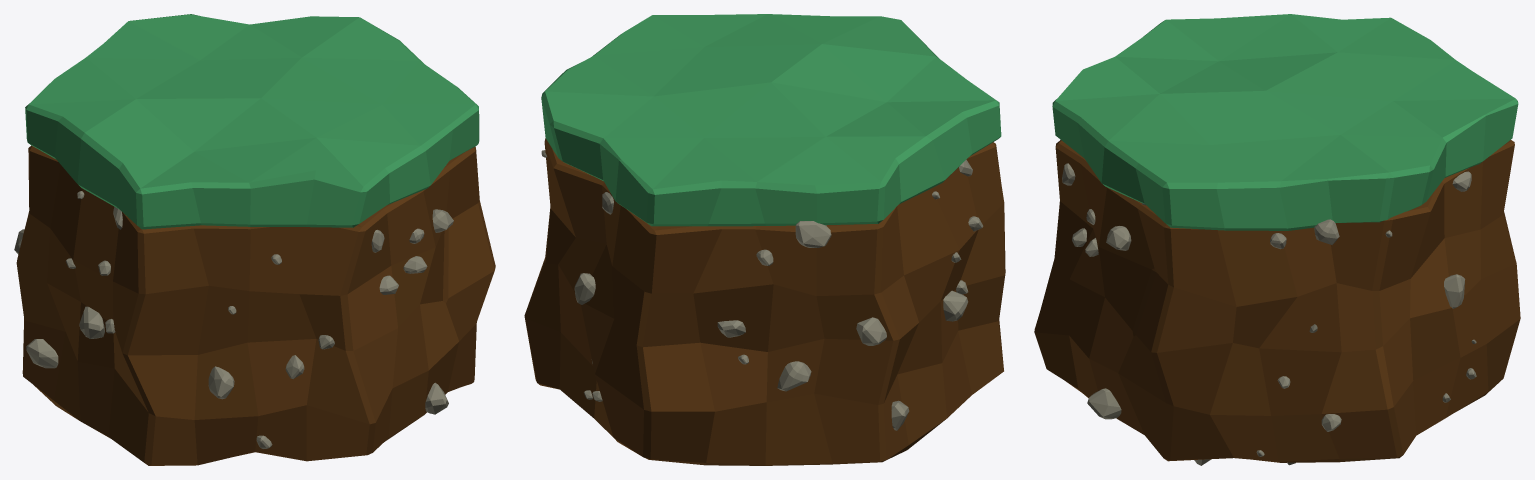
The model's file is grass tile.fbx.
The picture shows the model from 3 angles, left to right: view 1: azimuth 30°, elevation 25°; view 2: azimuth 150°, elevation 25°; view 3: azimuth 270°, elevation 25°; orthographic projection. The views are drawn at different scales.
Visible parts, largest first — view 1: bottom, top, stone.038, stone.037, stone.011, stone.032; view 2: bottom, top, stone.009, stone.008, stone.042, stone.011, stone.026; view 3: bottom, top, stone.032, stone.026, stone.018.
Part boxes in pixels (bbox=[...]): bottom: bbox=[16, 145, 495, 465]; top: bbox=[25, 14, 479, 229]; stone.038: bbox=[26, 339, 58, 368]; stone.037: bbox=[208, 366, 234, 399]; stone.011: bbox=[79, 306, 104, 338]; stone.032: bbox=[425, 382, 448, 414]; bottom: bbox=[524, 138, 1005, 465]; top: bbox=[541, 14, 1001, 226]; stone.009: bbox=[795, 221, 831, 247]; stone.008: bbox=[777, 361, 811, 391]; stone.042: bbox=[856, 317, 886, 345]; stone.011: bbox=[943, 290, 968, 321]; stone.026: bbox=[574, 273, 595, 304]; bottom: bbox=[1034, 140, 1520, 462]; top: bbox=[1052, 14, 1518, 230]; stone.032: bbox=[1087, 388, 1121, 419]; stone.026: bbox=[1444, 274, 1465, 308]; stone.018: bbox=[1106, 226, 1131, 250].
Bounding box in the file's own units: 190 × 144 × 209.
